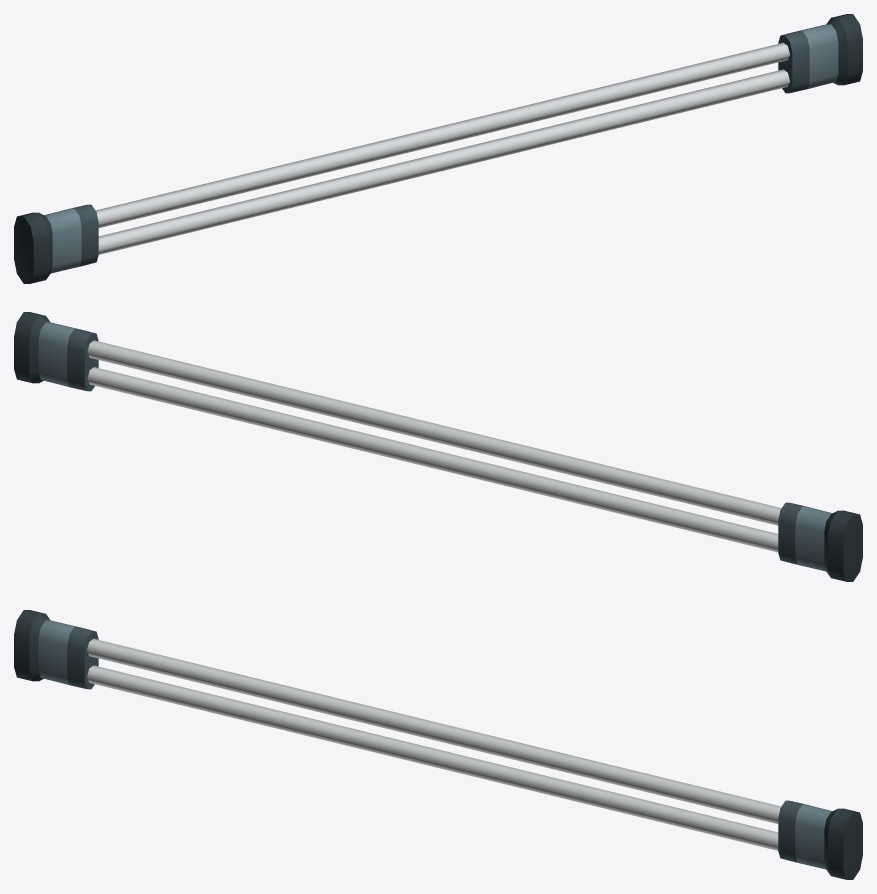
File: Cable_type_B_009.fbx
The picture shows the model from 3 angles, top to bottom: view 1: azimuth 30°, elevation 25°; view 2: azimuth 150°, elevation 25°; view 3: azimuth 330°, elevation 25°; orthographic projection.
Visible parts, largest first — view 1: Cable_type_B_009; view 2: Cable_type_B_009; view 3: Cable_type_B_009.
Part boxes in pixels (left/top/right/bottom): Cable_type_B_009: left=14, top=14, right=862, bottom=283; Cable_type_B_009: left=14, top=312, right=862, bottom=581; Cable_type_B_009: left=14, top=610, right=862, bottom=879.
Size of the model in its own units: 192 by 7.83 by 14.91.
